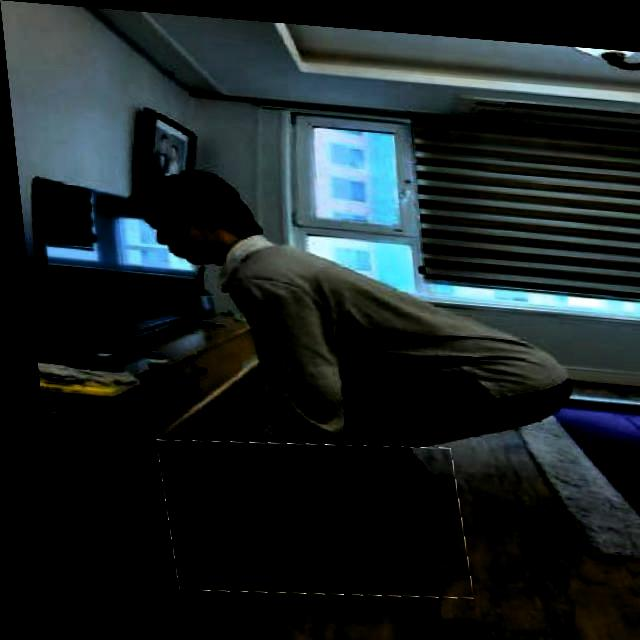barbell: (150, 427, 462, 602)
